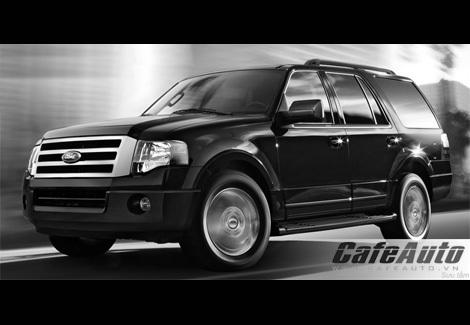car: (23, 59, 457, 274)
